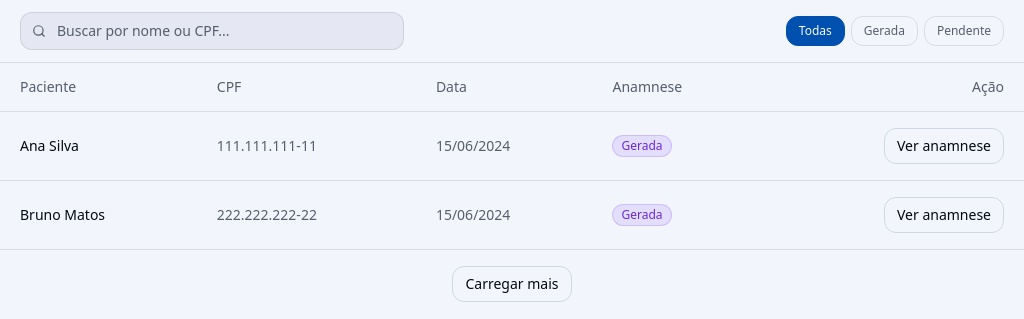
Test: HistoryClient — carregar mais › desabilita botão durante o carregamento
Click the button "Carregar mais" at point(512, 284), box [452, 266, 572, 302]
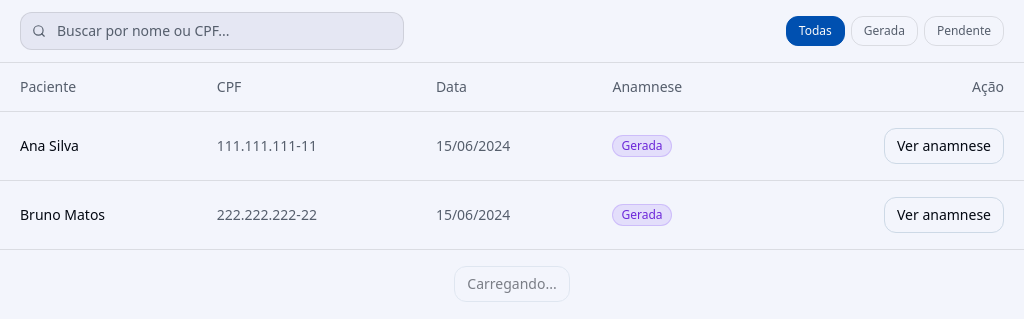
Expected: the button "Carregando..." is disabled, [454, 266, 570, 302]
